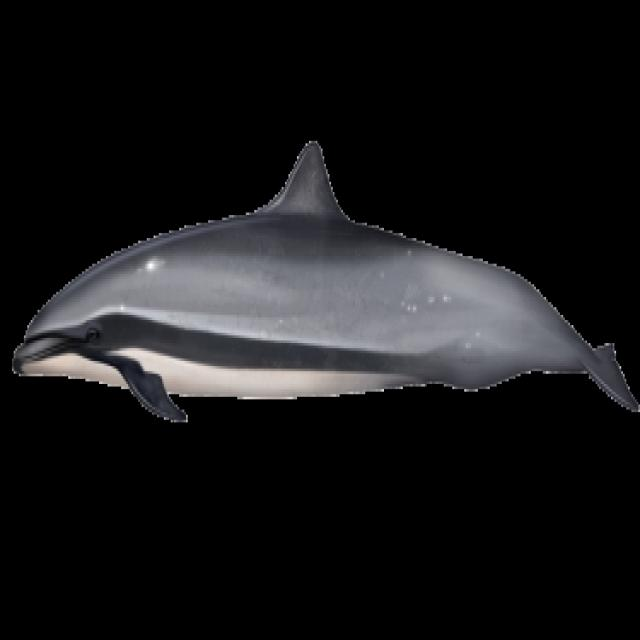penguin: (14, 143, 638, 420)
